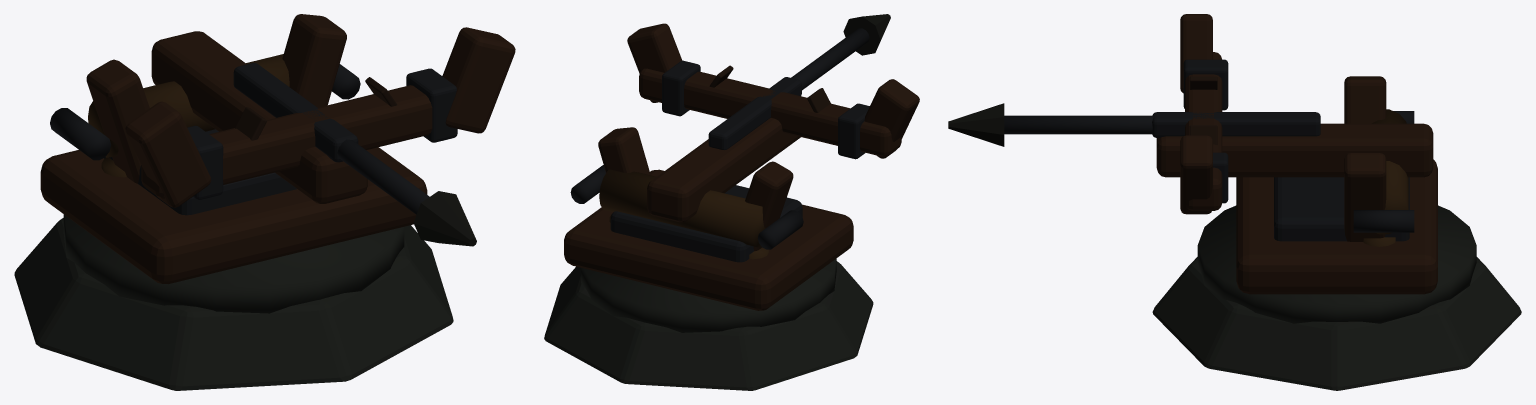
Rendered from TowerSeed1.obj.
3 renders of one model, left to right at view 1: azimuth 30°, elevation 25°; view 2: azimuth 150°, elevation 25°; view 3: azimuth 270°, elevation 25°, orthographic. The views are drawn at different scales.
Visible parts, largest first — view 1: limestone_socket_lower_course, oak_bed, cut_stone_course, oak_bow_crossbar, ballista_stock, bow_tip, bow_tip.001, oak_A_frame.001, oak_A_frame, iron_guide, bolt_head, bronze_windlass (+7 smaller); view 2: limestone_socket_lower_course, oak_bed, cut_stone_course, oak_bow_crossbar, ballista_stock, bronze_windlass, iron_turntable, iron_guide, bow_tip, bow_tip.001, oak_A_frame, oak_A_frame.001 (+7 smaller); view 3: limestone_socket_lower_course, oak_bed, cut_stone_course, ballista_stock, iron_turntable, iron_guide, iron_bolt, oak_A_frame.001, oak_bow_crossbar, bow_tip.001, oak_A_frame, bow_tip (+5 smaller).
Part boxes in pixels (x1,y1,x2,y2): limestone_socket_lower_course: (14,218,453,390); oak_bed: (40,147,427,284); cut_stone_course: (63,214,404,313); oak_bow_crossbar: (141,85,432,198); ballista_stock: (151,31,367,203); bow_tip: (125,101,211,207); bow_tip.001: (442,27,515,133); oak_A_frame.001: (282,14,346,107); oak_A_frame: (86,59,149,183); iron_guide: (233,63,358,162); bolt_head: (413,191,476,246); bronze_windlass: (88,54,289,157); limestone_socket_lower_course: (544,261,873,390); oak_bed: (564,169,853,310); cut_stone_course: (581,258,836,332); oak_bow_crossbar: (639,68,901,156); ballista_stock: (647,118,800,222); bronze_windlass: (599,169,765,247); iron_turntable: (610,185,802,262); iron_guide: (708,77,801,149); bow_tip: (864,79,919,158); bow_tip.001: (627,23,682,102); oak_A_frame: (745,161,793,251); oak_A_frame.001: (598,127,650,175); limestone_socket_lower_course: (1152,257,1521,390); oak_bed: (1236,159,1437,294); cut_stone_course: (1197,205,1476,323); ballista_stock: (1156,123,1433,177); iron_turntable: (1274,177,1409,241); iron_guide: (1152,112,1320,137); iron_bolt: (1004,115,1153,134); oak_A_frame.001: (1344,153,1386,241); oak_bow_crossbar: (1185,52,1222,210); bow_tip.001: (1180,135,1212,214); oak_A_frame: (1344,76,1386,123); bow_tip: (1180,14,1212,93).
Size of the model in its own units: 1.58 by 1.12 by 2.45.
